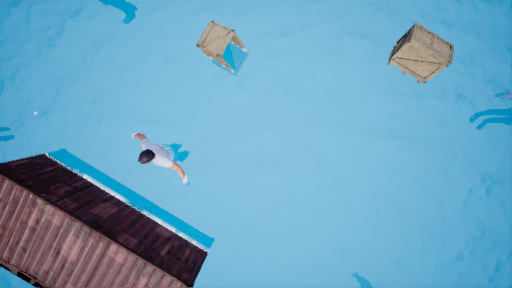person: (124, 123, 196, 180)
